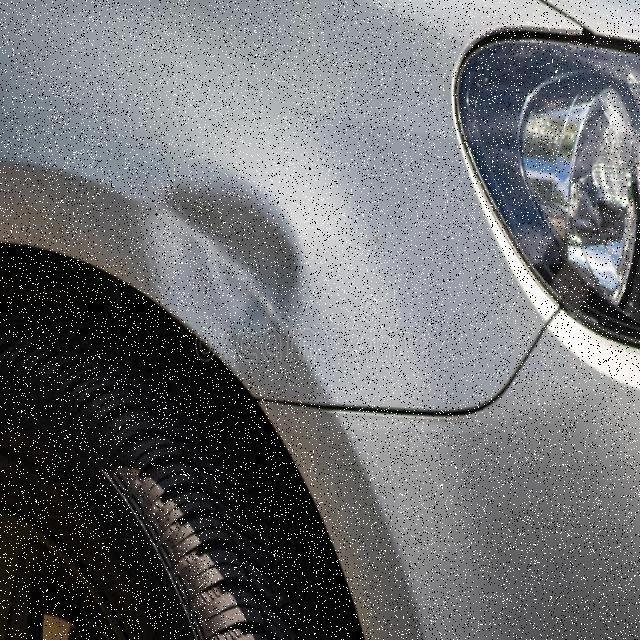fender-dent: (0, 0, 478, 413)
